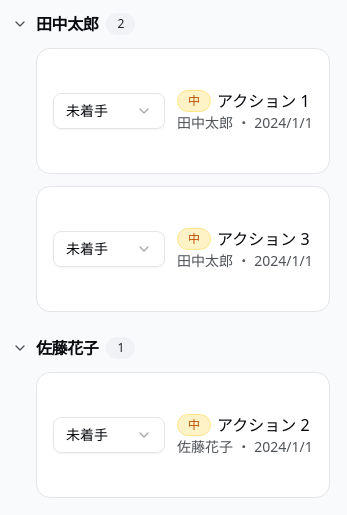
ActionListGrouped › 折りたたみ機能 › グループヘッダーをクリックすると折りたたまれる
The image size is (347, 515).
Click the button "田中太郎 2". click: (67, 24)
box: [12, 12, 330, 36]
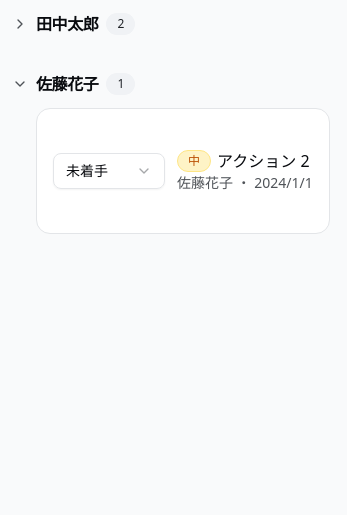
Expected: the text "アクション 2" is shown, [217, 149, 310, 173]
Expected: the text "アクション 1" is gone
Expected: the text "アクション 3" is gone
